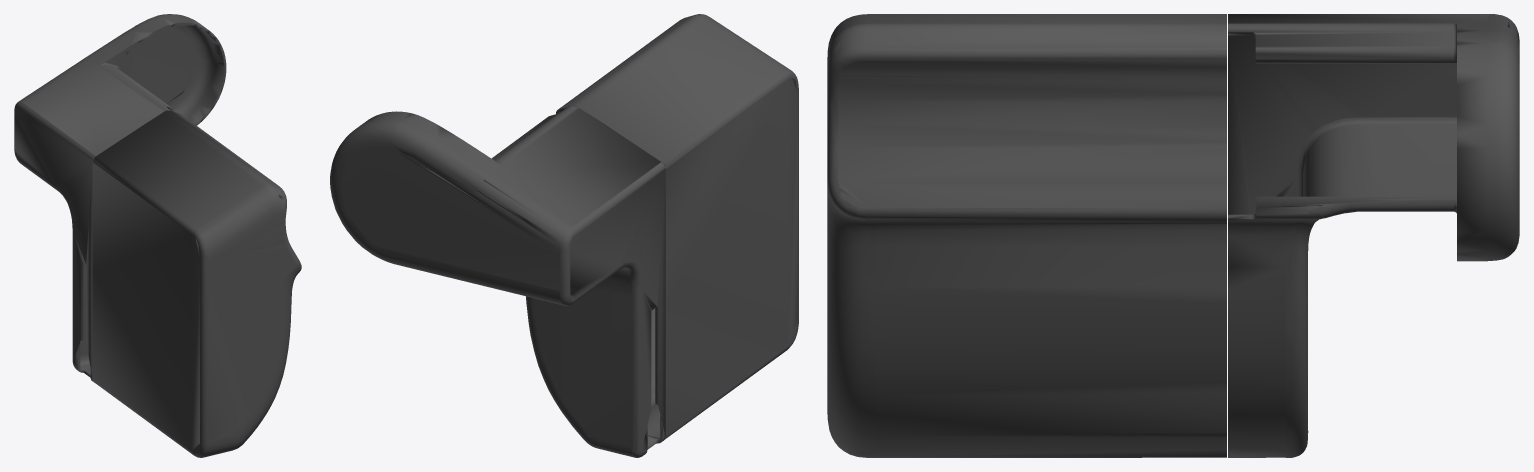
The model's file is shoulder.dae.
3 views of the same model, side by side, from view 1: azimuth 30°, elevation 25°; view 2: azimuth 150°, elevation 25°; view 3: azimuth 270°, elevation 25° (orthographic). The views are drawn at different scales.
Visible parts, largest first — view 1: Shoulder; view 2: Shoulder; view 3: Shoulder.
Boxes of the visible parts, box(x1,y1,x2,y2) form: Shoulder: box(14, 14, 301, 457); Shoulder: box(330, 14, 798, 457); Shoulder: box(827, 14, 1519, 457).
Bounding box in the file's own units: 0.1301 × 0.2183 × 0.176.
Materials: 1 (1 with a texture image).
